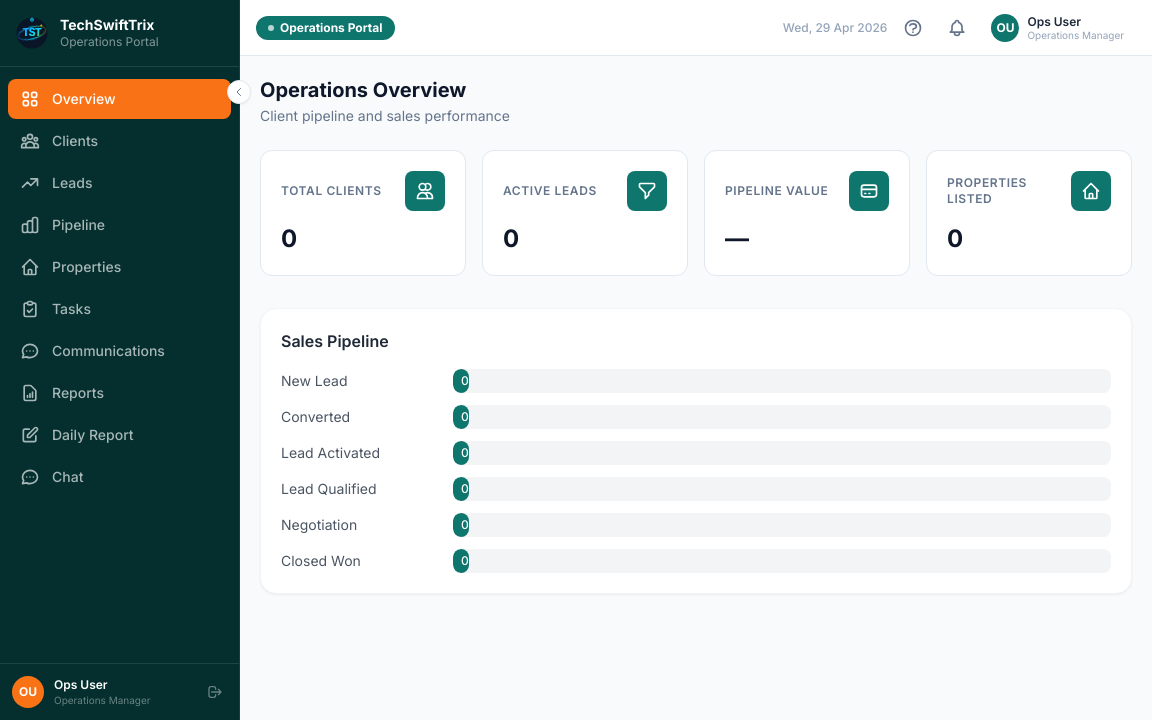
OperationsPortal › navigates to clients section
The width and height of the screenshot is (1152, 720).
Click the button "Clients": click(120, 140) [8, 120, 231, 160]
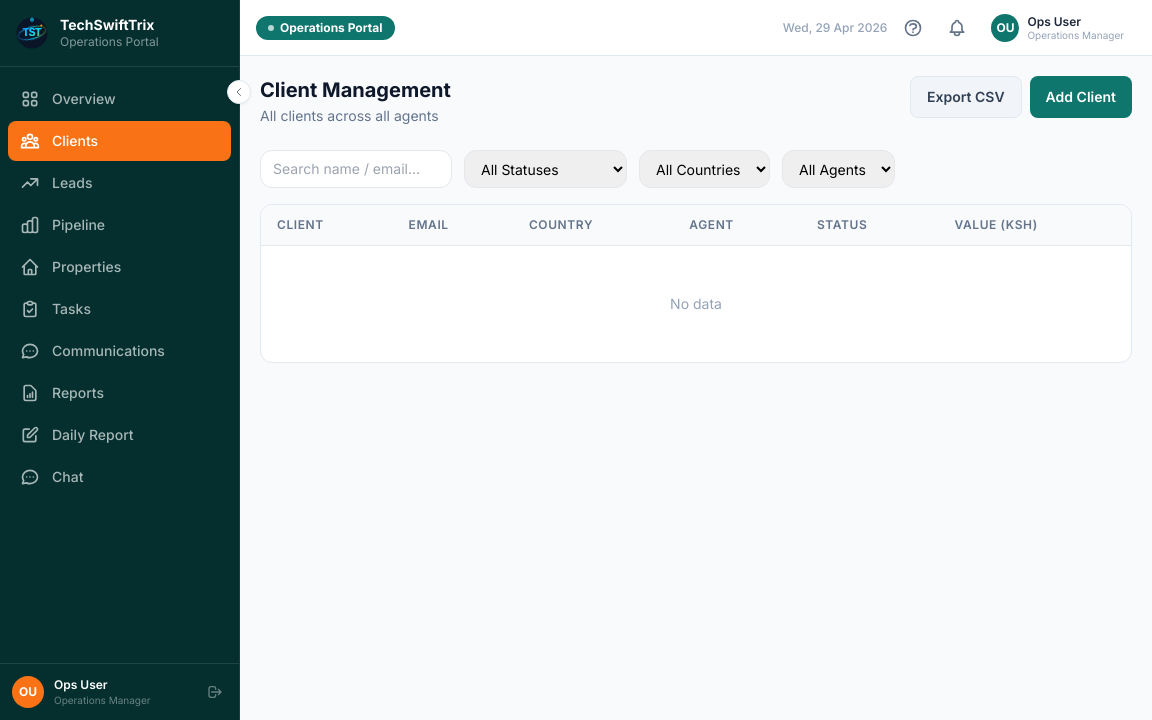
Expected: the heading "Client Management" is shown, [260, 76, 451, 104]
